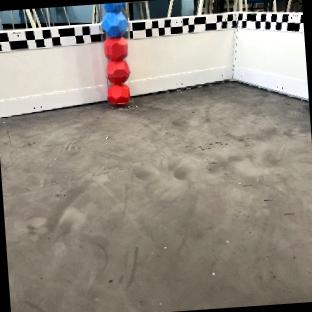V5_BLUE: (101, 2, 128, 36)
V5_RED: (106, 79, 131, 104), (106, 58, 130, 82), (104, 35, 127, 59)
